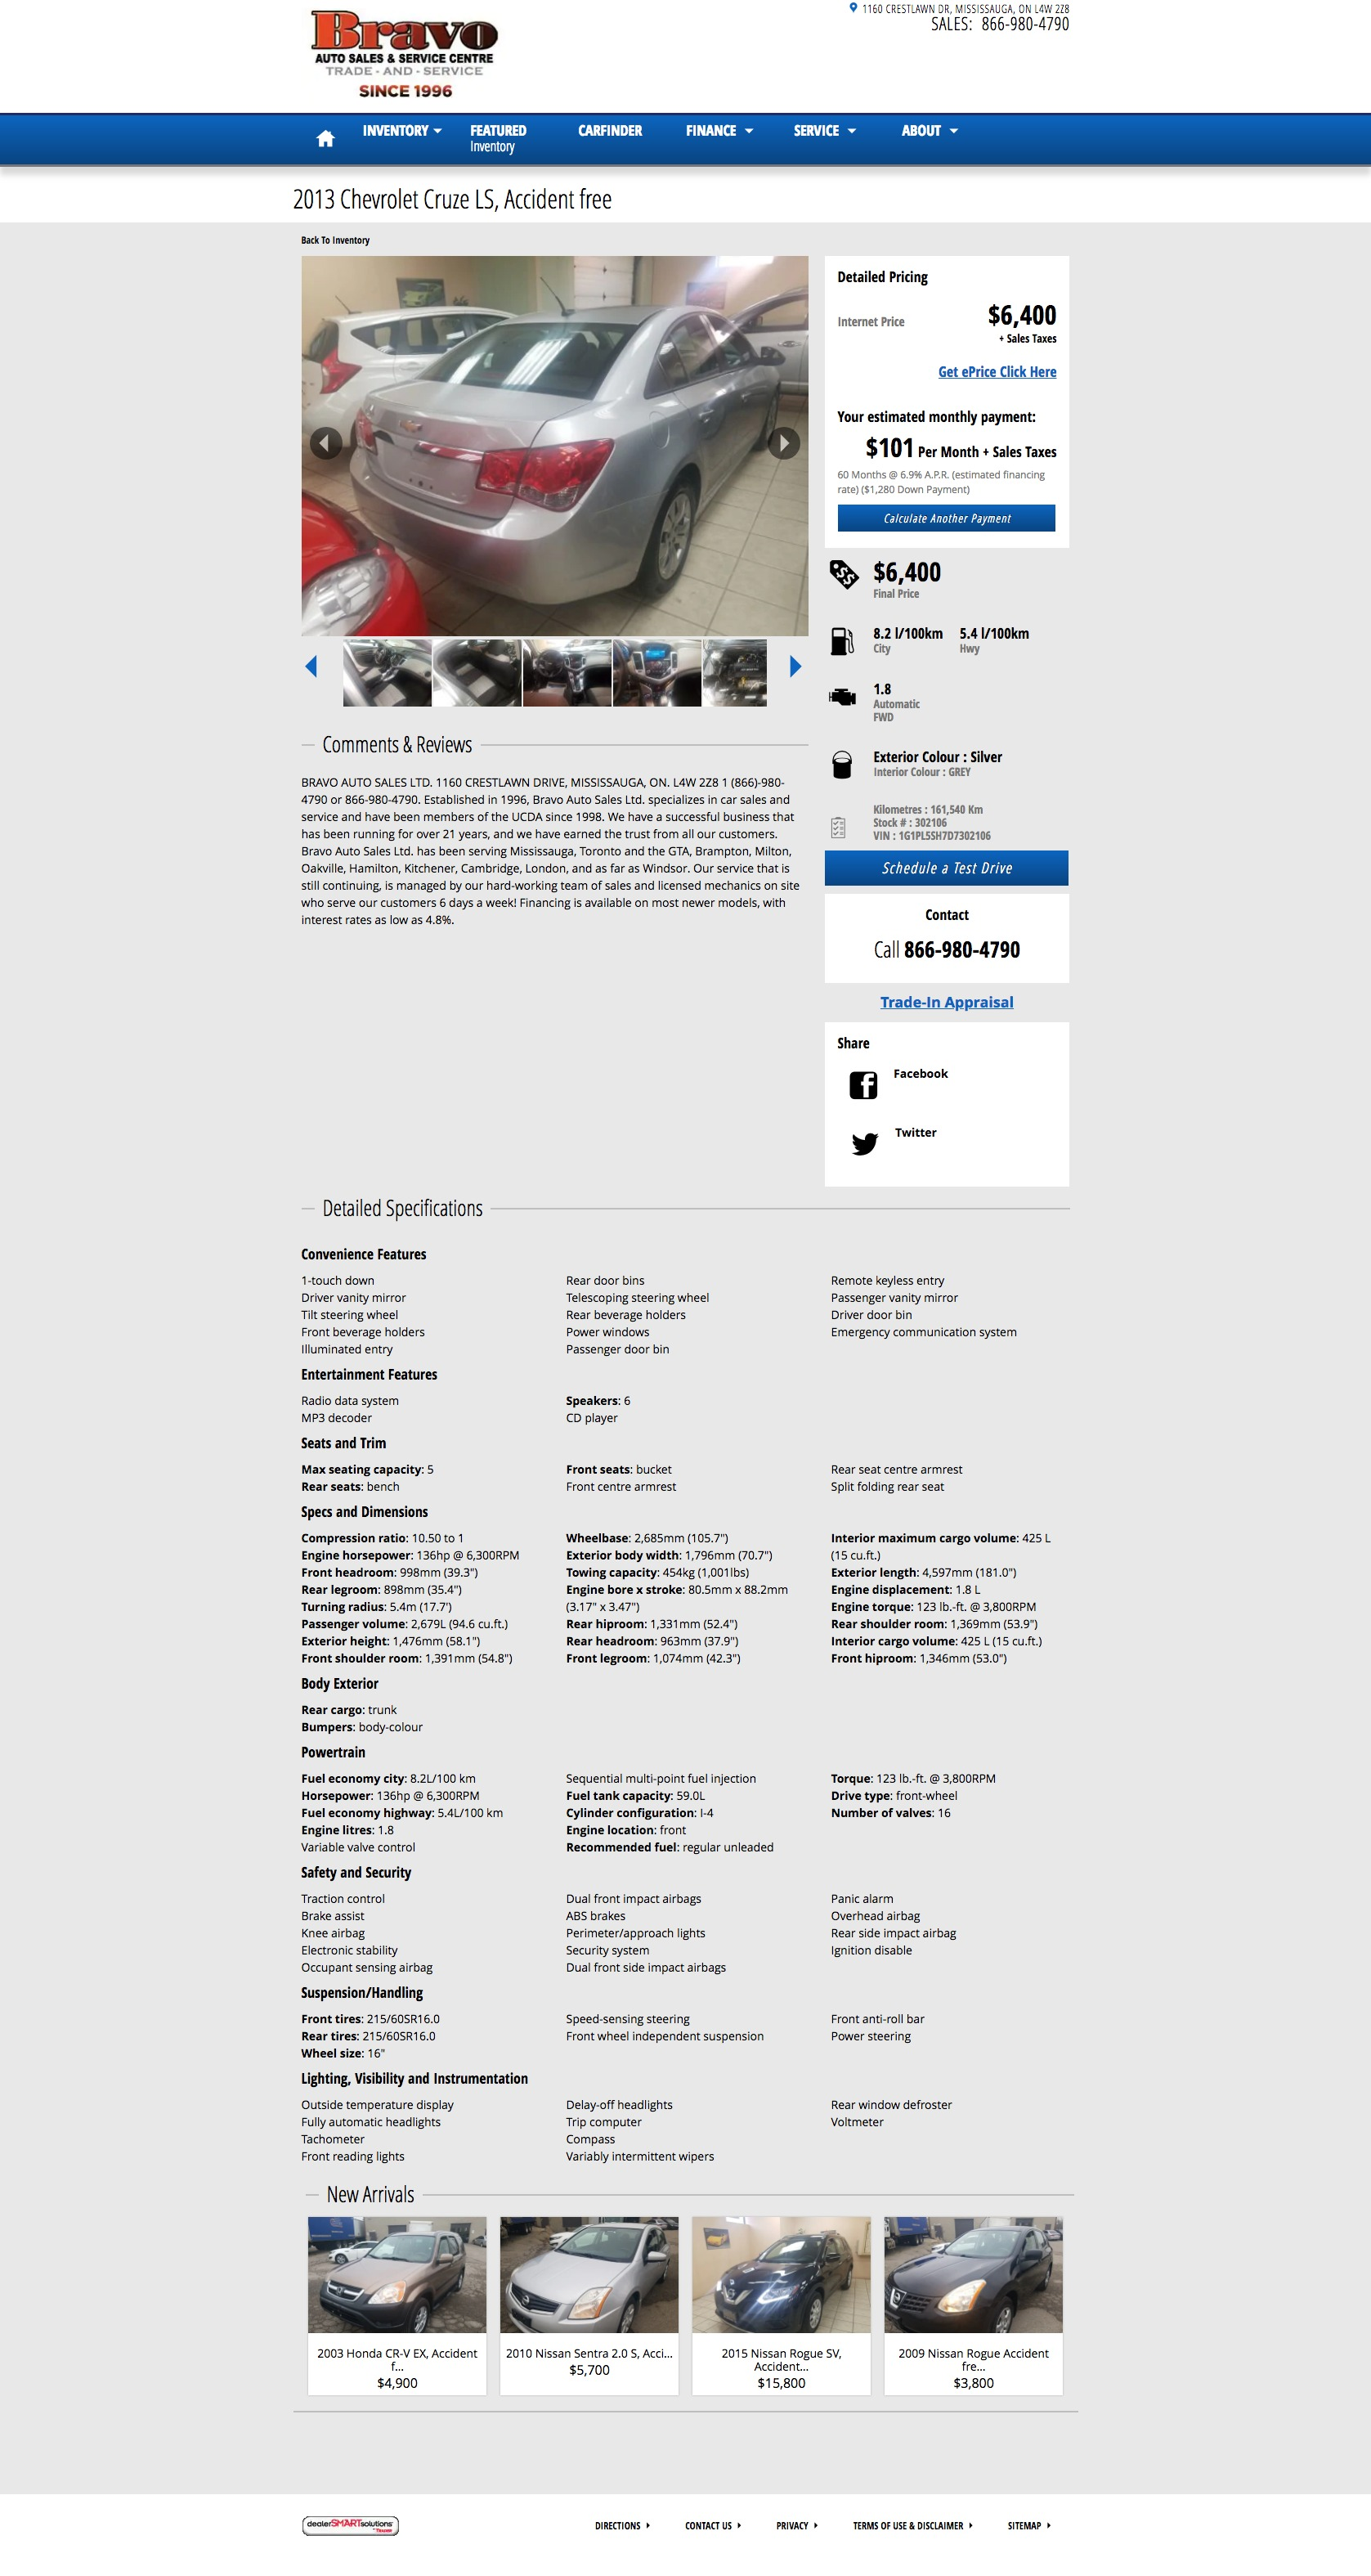car: (789, 656, 802, 678)
